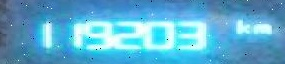0: (140, 19, 173, 49)
1: (38, 18, 51, 48), (69, 20, 80, 47)
2: (111, 17, 140, 50)
3: (176, 19, 205, 49)
9: (82, 19, 109, 49)
X: (249, 21, 271, 34), (233, 16, 249, 33)
